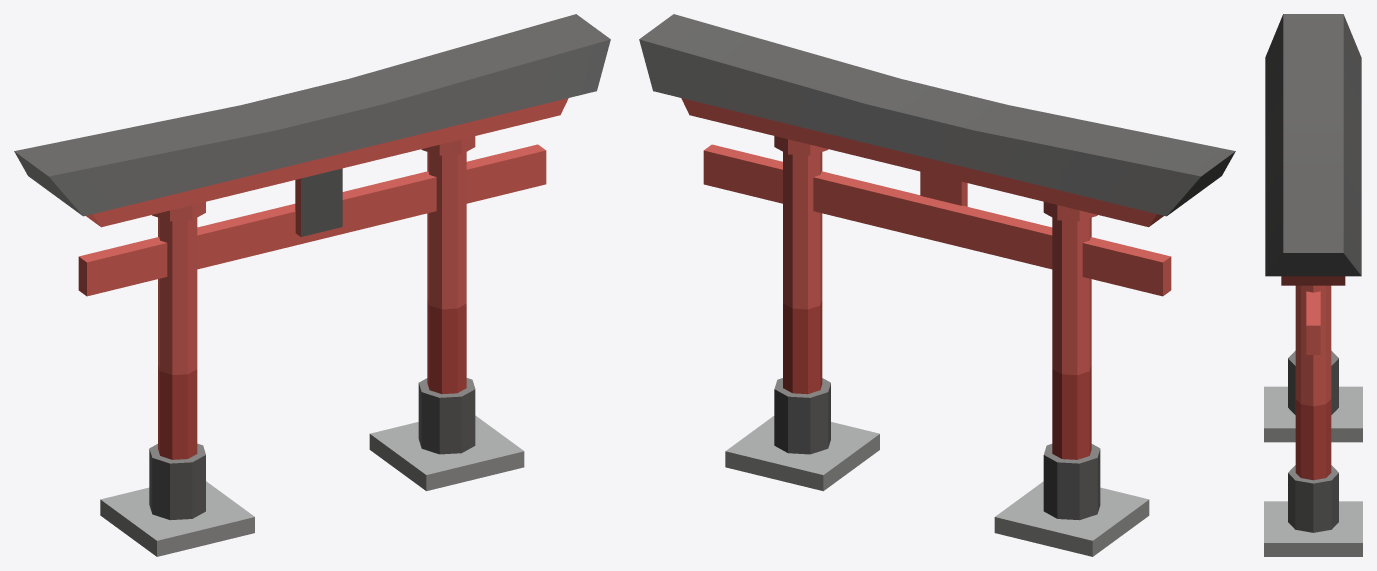
The model's file is torii_1.fbx.
3 renders of one model, left to right at view 1: azimuth 30°, elevation 25°; view 2: azimuth 150°, elevation 25°; view 3: azimuth 270°, elevation 25°, orthographic. The views are drawn at different scales.
Visible parts, largest first — view 1: torii_1; view 2: torii_1; view 3: torii_1.
Part boxes in pixels (x1,y1,x2,y2): torii_1: (14, 14, 610, 556); torii_1: (639, 14, 1235, 556); torii_1: (1264, 14, 1362, 556).
Bounding box in the file's own units: 624 × 420 × 109.
